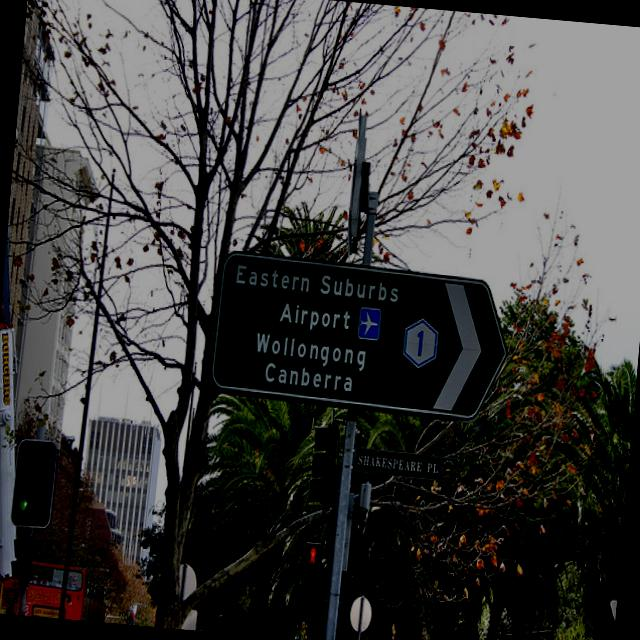Vehicle: (21, 560, 86, 620)
